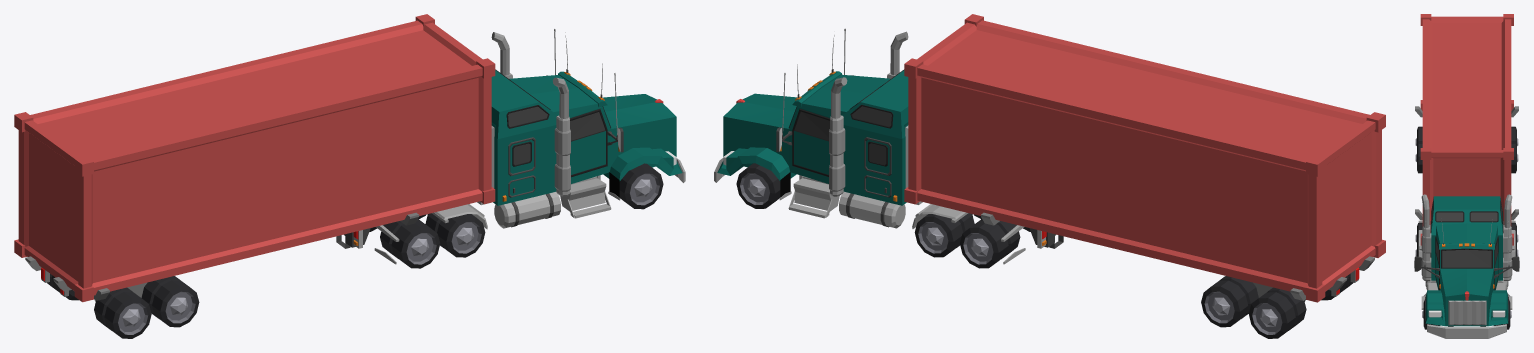
Rendered from car_truck_1.fbx.
3 views of the same model, side by side, from view 1: azimuth 30°, elevation 25°; view 2: azimuth 150°, elevation 25°; view 3: azimuth 270°, elevation 25° (orthographic). The views are drawn at different scales.
Parts seen in each view (by area): view 1: car_container_1, car_truck_1, car_trailer_1, car_trailer_1_wheels_F, car_truck_1_wheels_B, car_truck_1_wheels_F; view 2: car_container_1, car_truck_1, car_trailer_1, car_trailer_1_wheels_F, car_truck_1_wheels_B, car_truck_1_wheels_F; view 3: car_container_1, car_truck_1, car_trailer_1, car_truck_1_wheels_F, car_trailer_1_wheels_F, car_truck_1_wheels_B.
Boxes of the visible parts, x1,y1,x2,y2 form: car_container_1: (14,14,495,302); car_truck_1: (336,29,685,264); car_trailer_1: (25,212,419,338); car_trailer_1_wheels_F: (369,219,440,268); car_truck_1_wheels_B: (418,213,485,257); car_truck_1_wheels_F: (619,163,663,209); car_container_1: (904,14,1385,302); car_truck_1: (714,28,1063,264); car_trailer_1: (981,212,1374,338); car_trailer_1_wheels_F: (960,219,1030,268); car_truck_1_wheels_B: (914,213,981,257); car_truck_1_wheels_F: (736,163,780,208); car_container_1: (1420,14,1513,245); car_truck_1: (1414,194,1519,338); car_trailer_1: (1415,106,1518,220); car_truck_1_wheels_F: (1422,299,1511,329); car_trailer_1_wheels_F: (1415,223,1518,242); car_truck_1_wheels_B: (1415,238,1518,259).
Size of the model in its own units: 1883 by 533 by 404.
